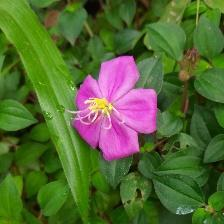malabar melastome: (71, 54, 161, 165)
